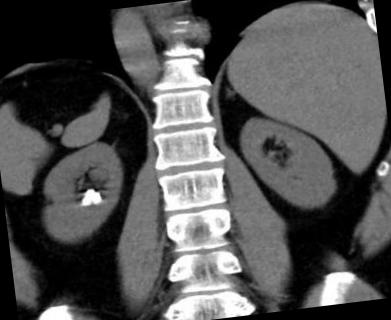Tas_Var: (79, 194, 91, 208), (90, 193, 102, 205), (82, 188, 96, 196)
